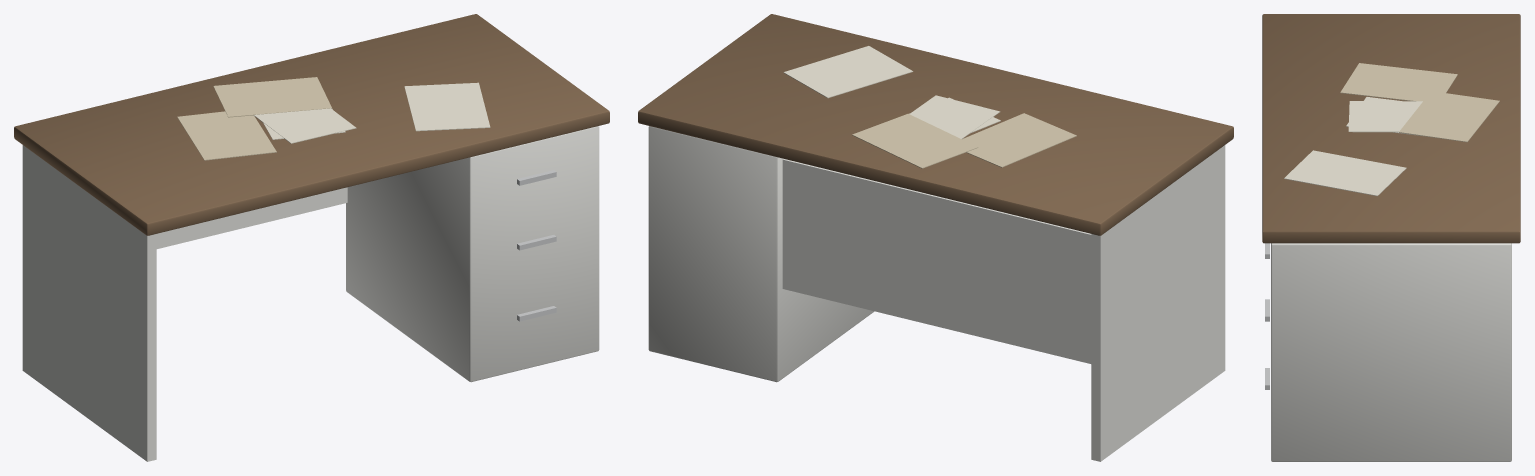
File: office_desk.glb
3 views of the same model, side by side, from view 1: azimuth 30°, elevation 25°; view 2: azimuth 150°, elevation 25°; view 3: azimuth 270°, elevation 25° (orthographic). The views are drawn at different scales.
Parts seen in each view (by area): view 1: office_desk; view 2: office_desk; view 3: office_desk.
Part boxes in pixels (x1,y1,x2,y2): office_desk: (14, 14, 609, 461); office_desk: (638, 14, 1233, 461); office_desk: (1262, 14, 1520, 461).
Size of what is drawn, in the model's own units: 1.5 by 0.7562 by 0.75.
